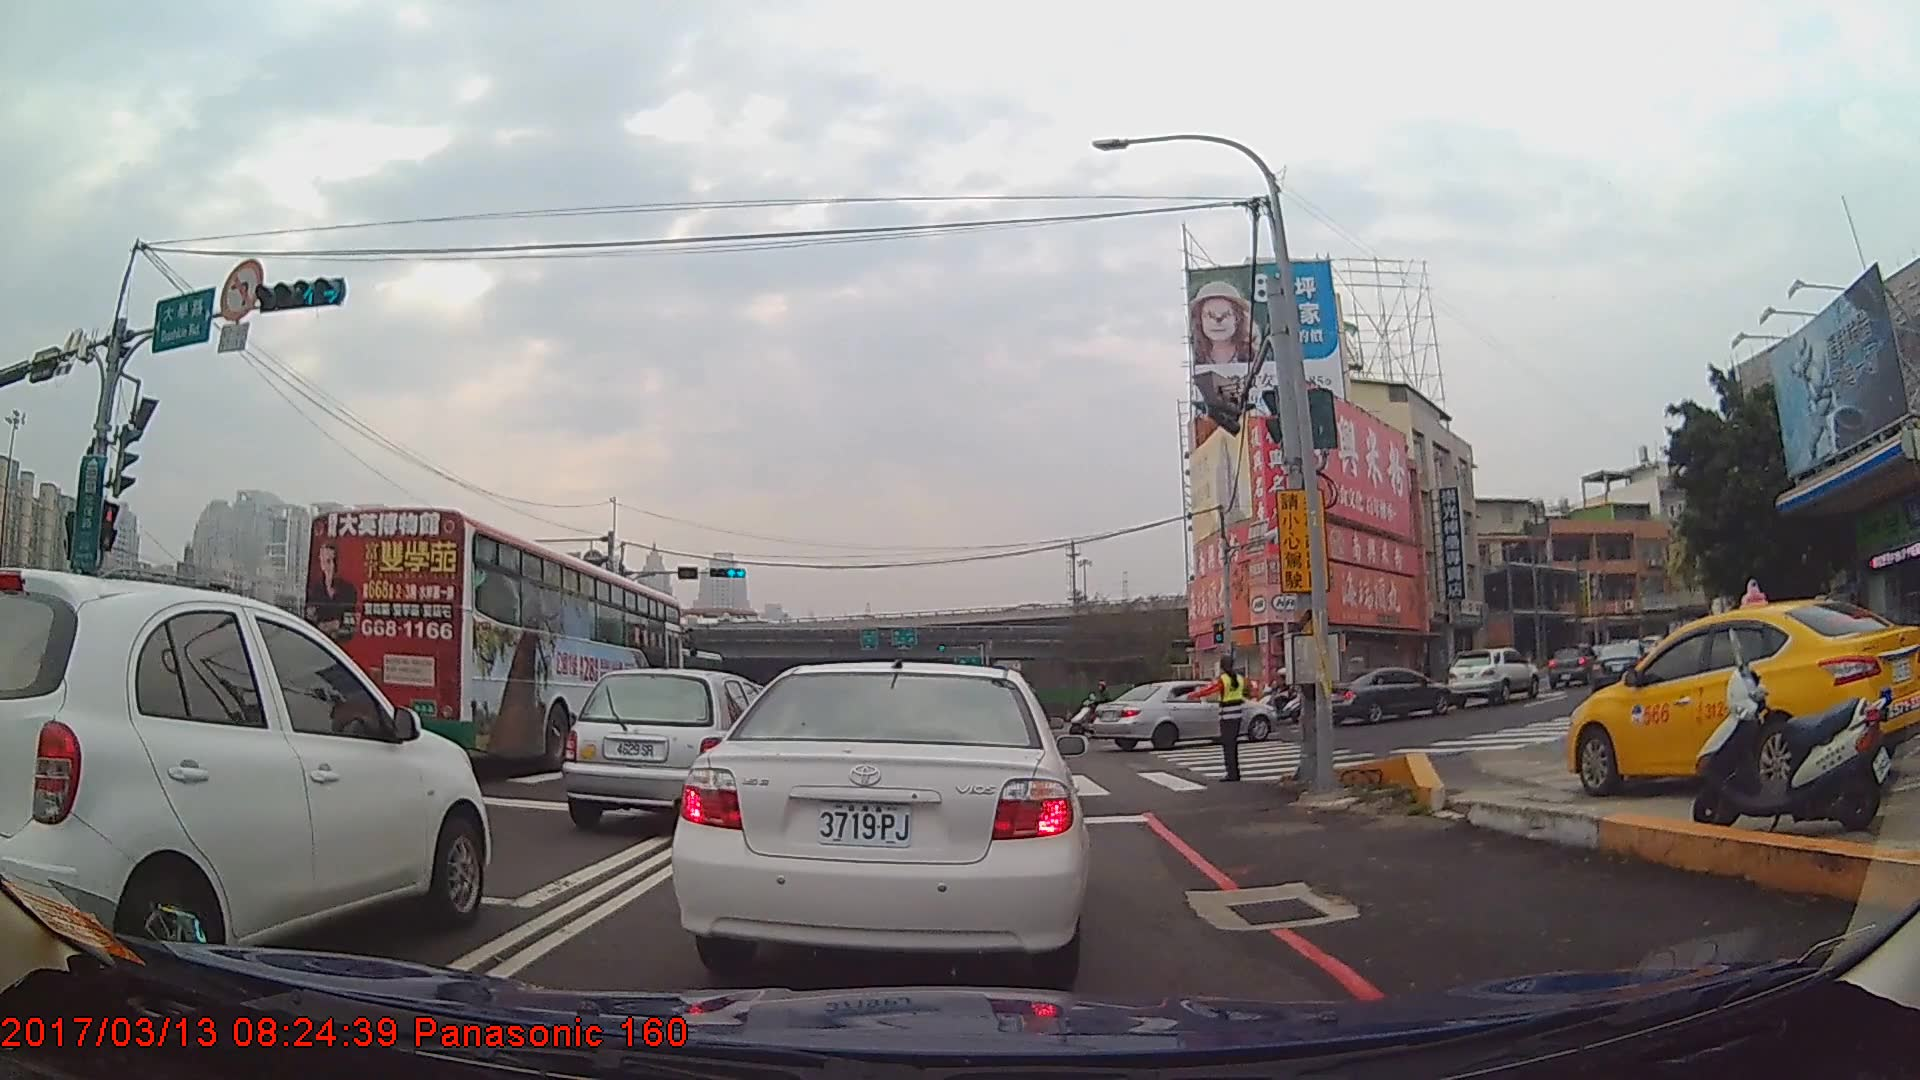pedestrian: (1207, 657, 1251, 785)
rider: (1072, 682, 1134, 738), (1253, 667, 1302, 725)
vehicle: (0, 566, 488, 990), (670, 659, 1087, 986), (298, 506, 691, 776), (1562, 598, 1920, 797), (560, 667, 796, 833), (1089, 679, 1275, 749), (1318, 665, 1449, 725), (1447, 645, 1539, 707), (1589, 638, 1655, 698), (1548, 643, 1601, 689)
